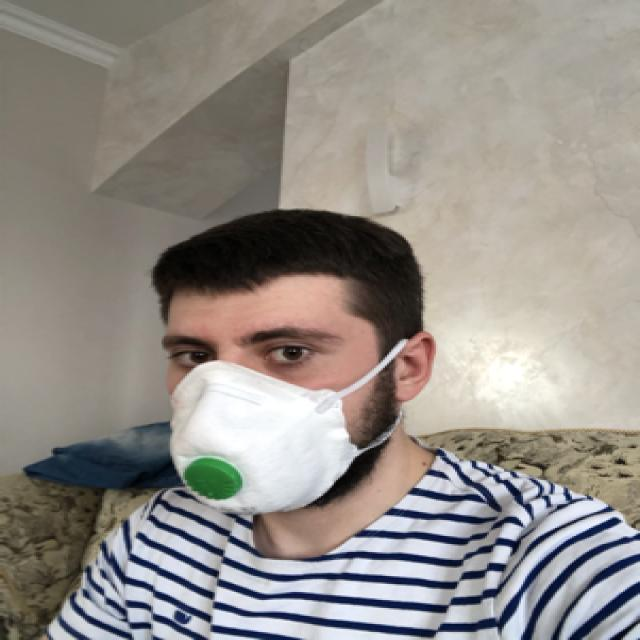with_mask: (170, 304, 362, 515)
